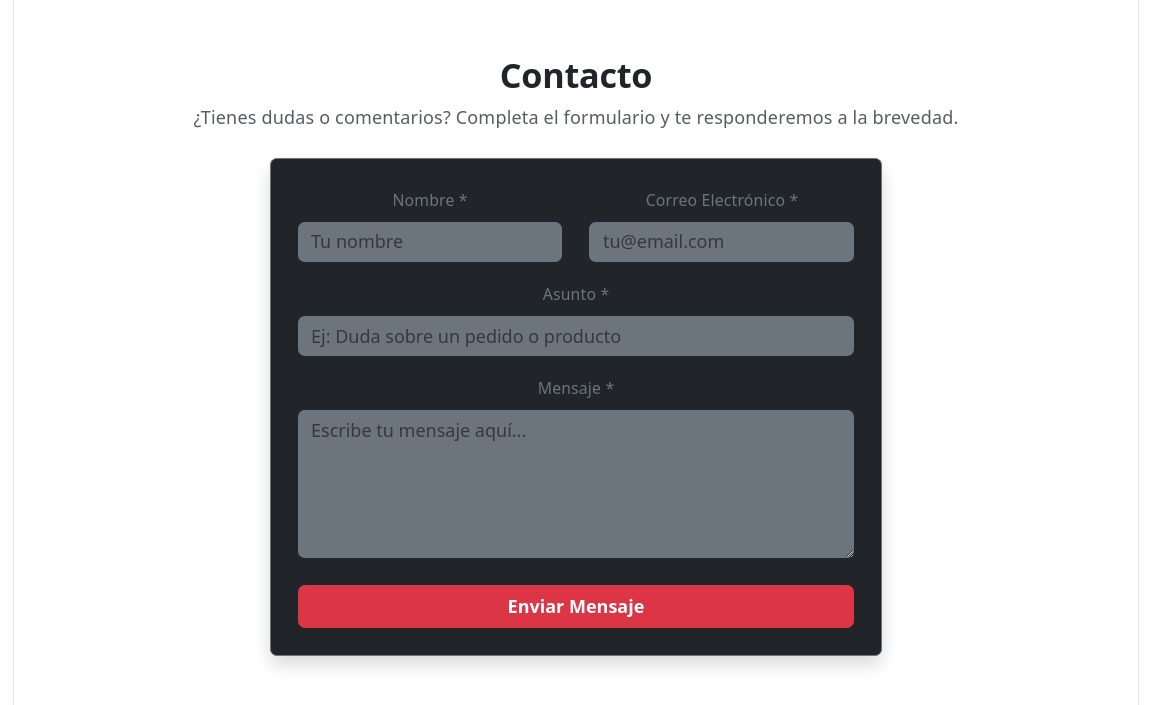
Contacto Component › Debe procesar el formulario y enviar los datos a Supabase al hacer clic en Enviar Mensaje
Type "Juan Pérez" into the field with placeholder "Tu nombre" at (430, 242), box [298,222,562,262]
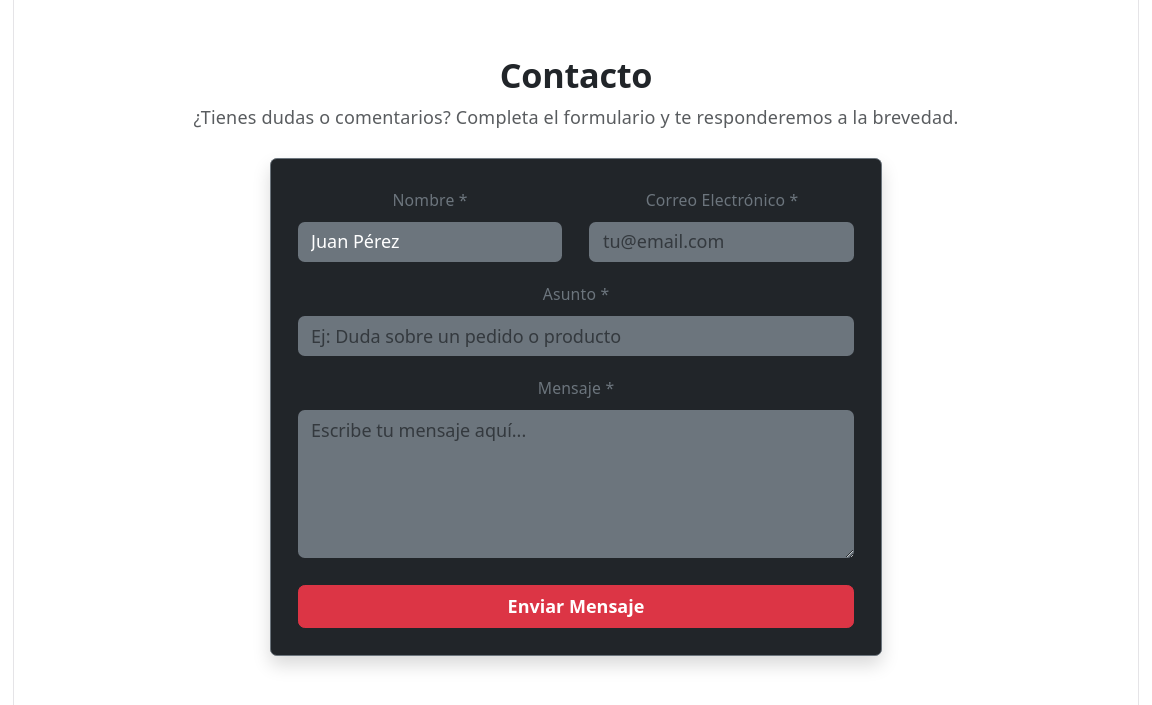
Type "juan@example.com" into the field with placeholder "tu@email.com" at (722, 242), box [590,222,854,262]
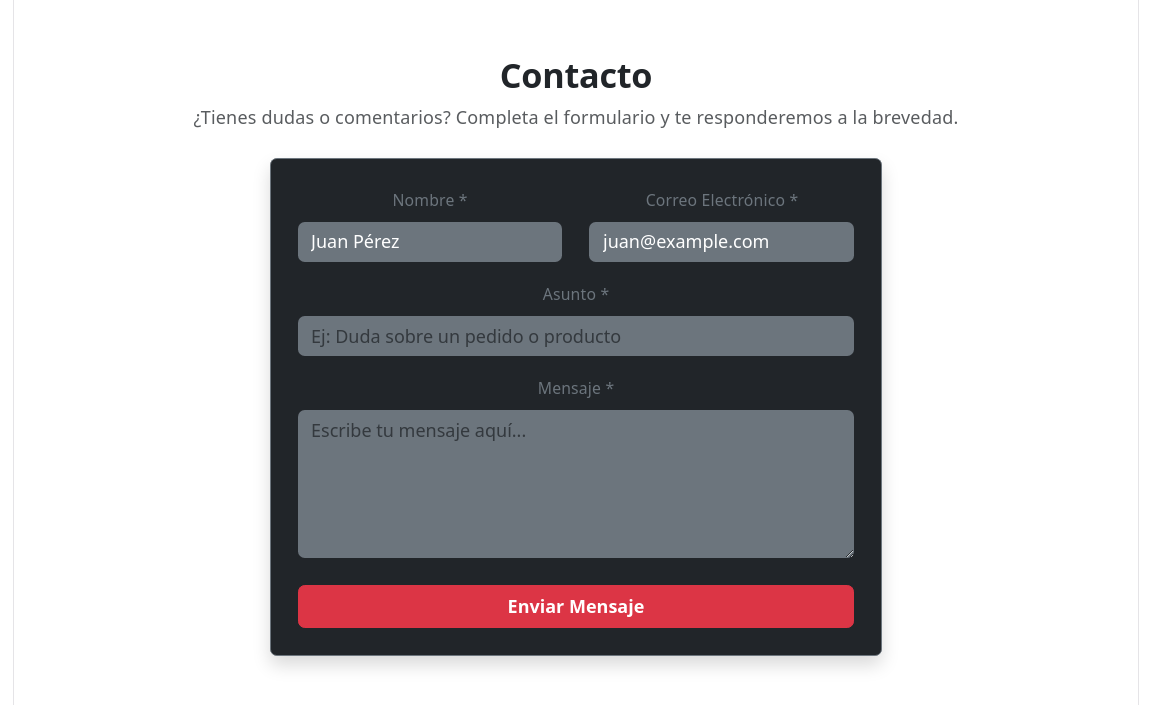
Type "Consulta de stock" into the field with placeholder "Ej: Duda sobre un pedido o producto" at (576, 336), box [298,316,854,356]
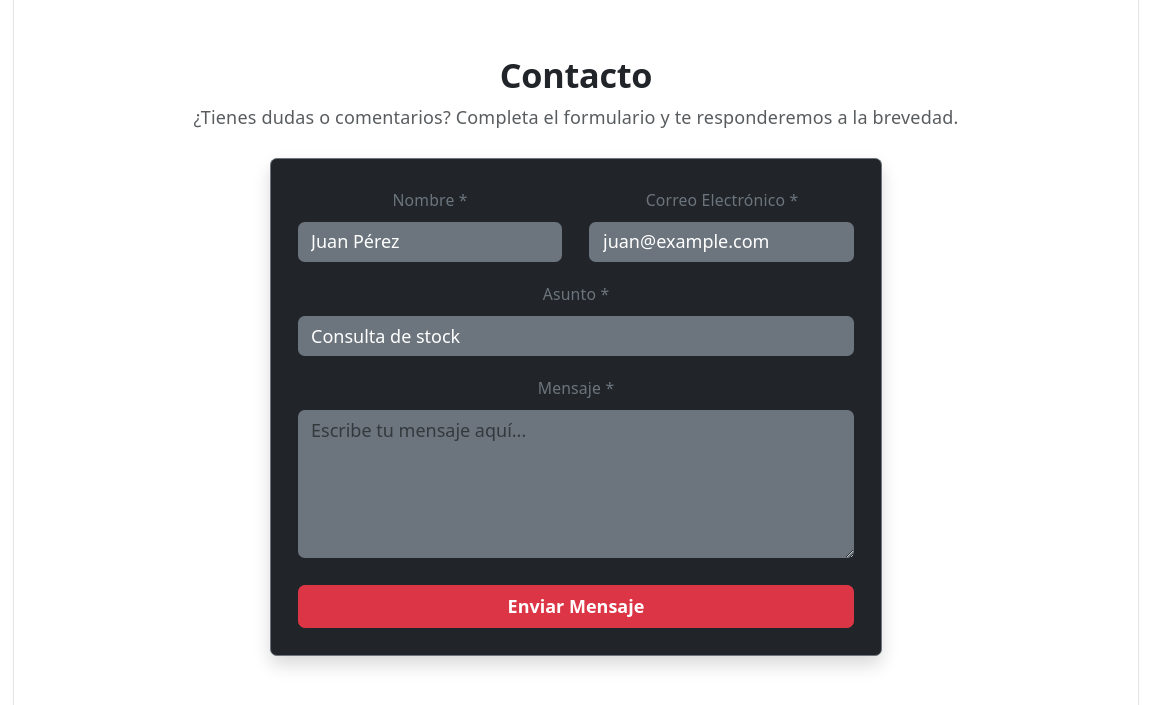
Type "Hola, ¿tienen disponibilidad de Catan?" into the text box with placeholder "Escribe tu mensaje aquí..." at (576, 484), box [298,410,854,558]
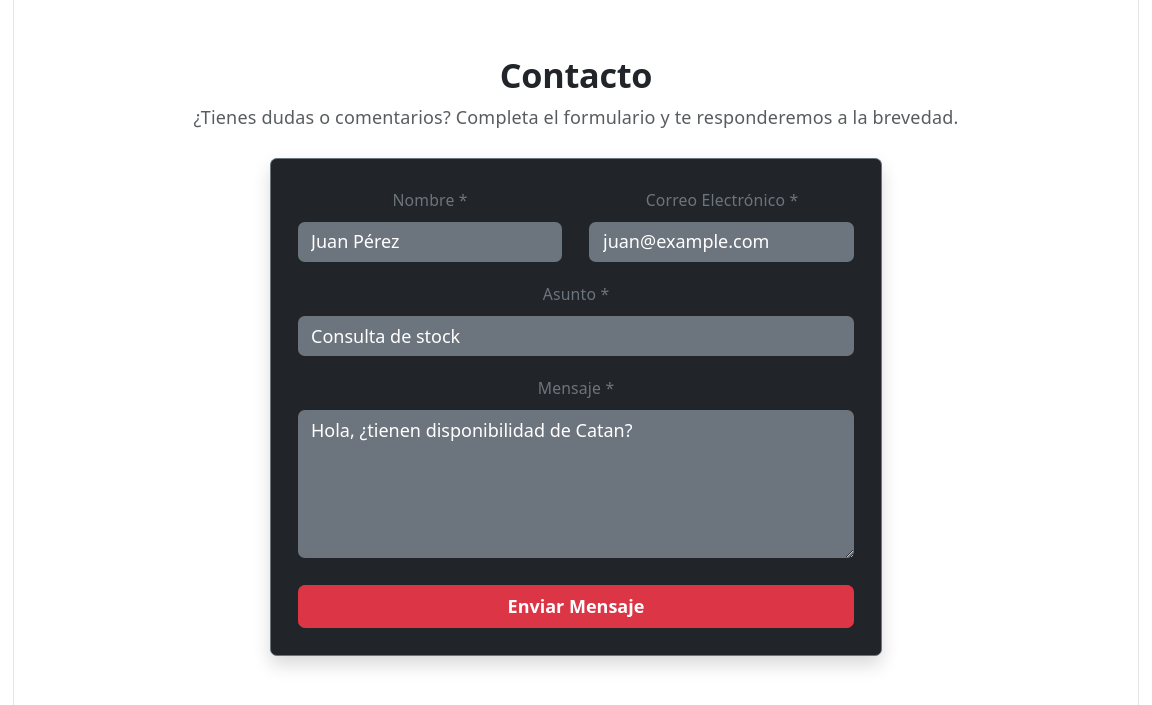
Click the button "Enviar Mensaje" at (576, 607), box [298,585,854,628]
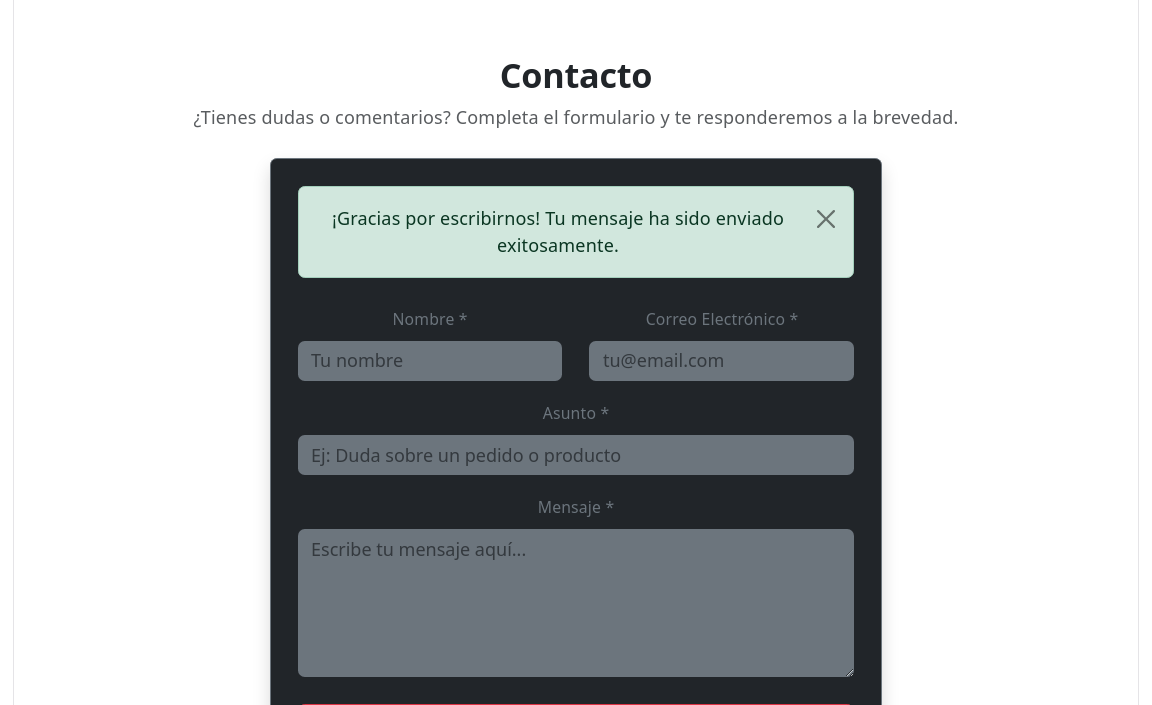
Result: the text "¡Gracias por escribirnos! Tu mensaje ha sido enviado exitosamente." is shown at [298,186,854,278]
